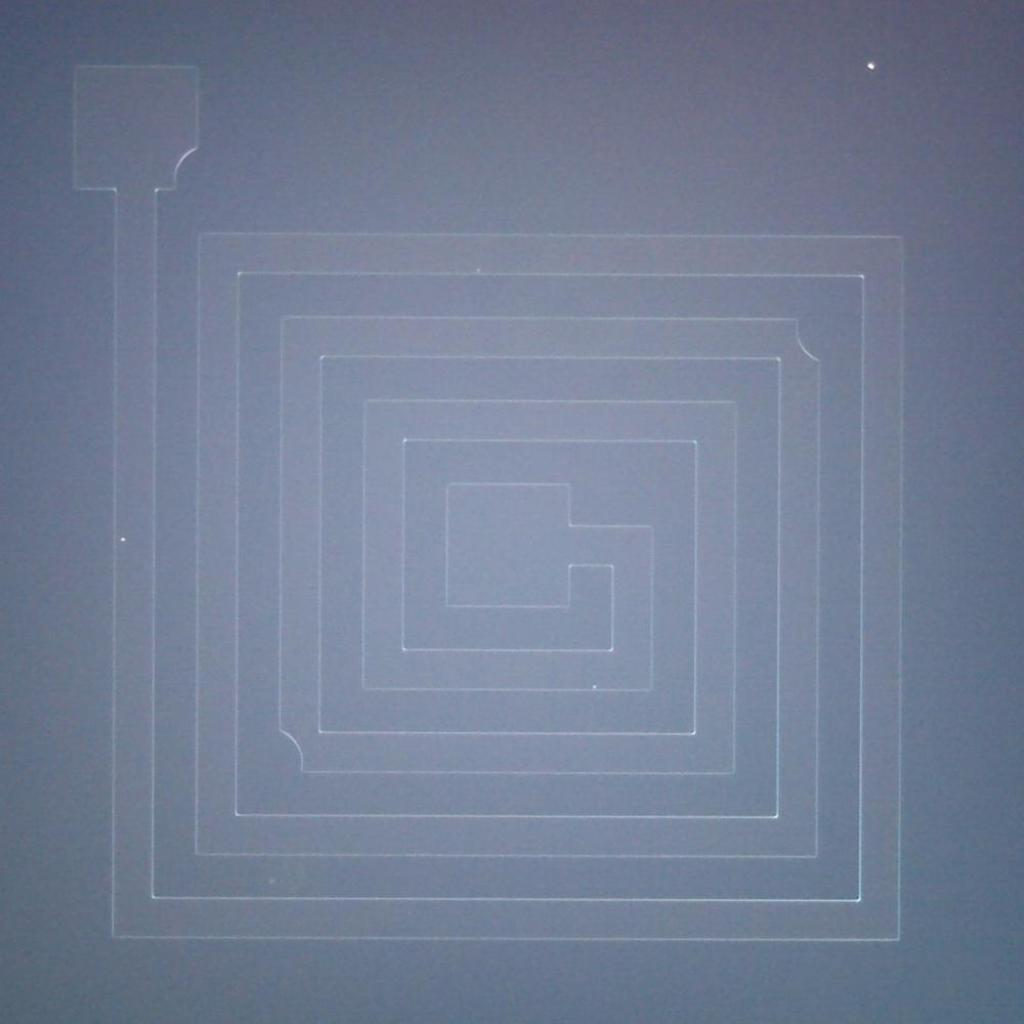dot: (867, 62, 876, 71), (122, 537, 126, 541)
